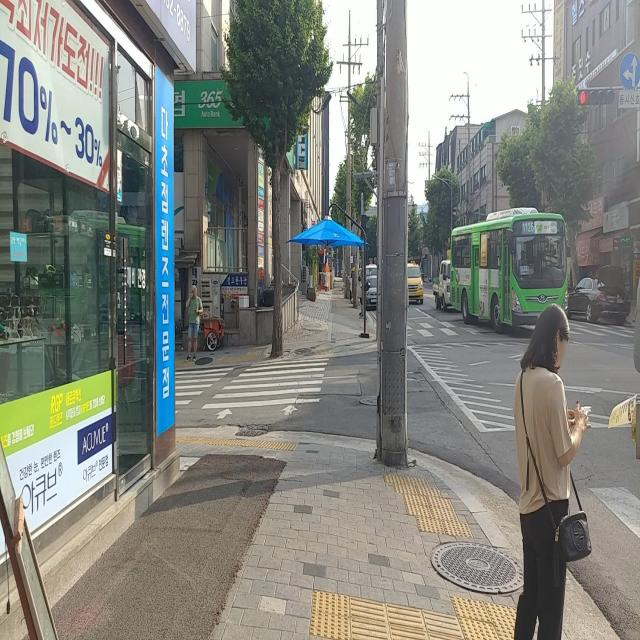횡단보도: (174, 356, 330, 421), (406, 316, 624, 342)
